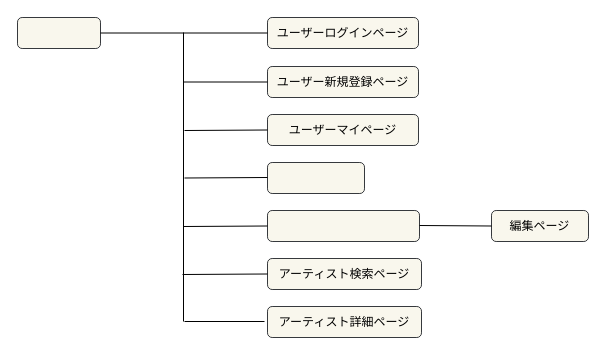
The diagram is 606 pixels wide and 355 high, and some of its shapes have lost their labels. Each missing label, with the box of its shape:
一覧ページ: (16, 16, 100, 48)
投稿ページ: (266, 162, 364, 194)
楽曲詳細ページ: (266, 210, 420, 242)
